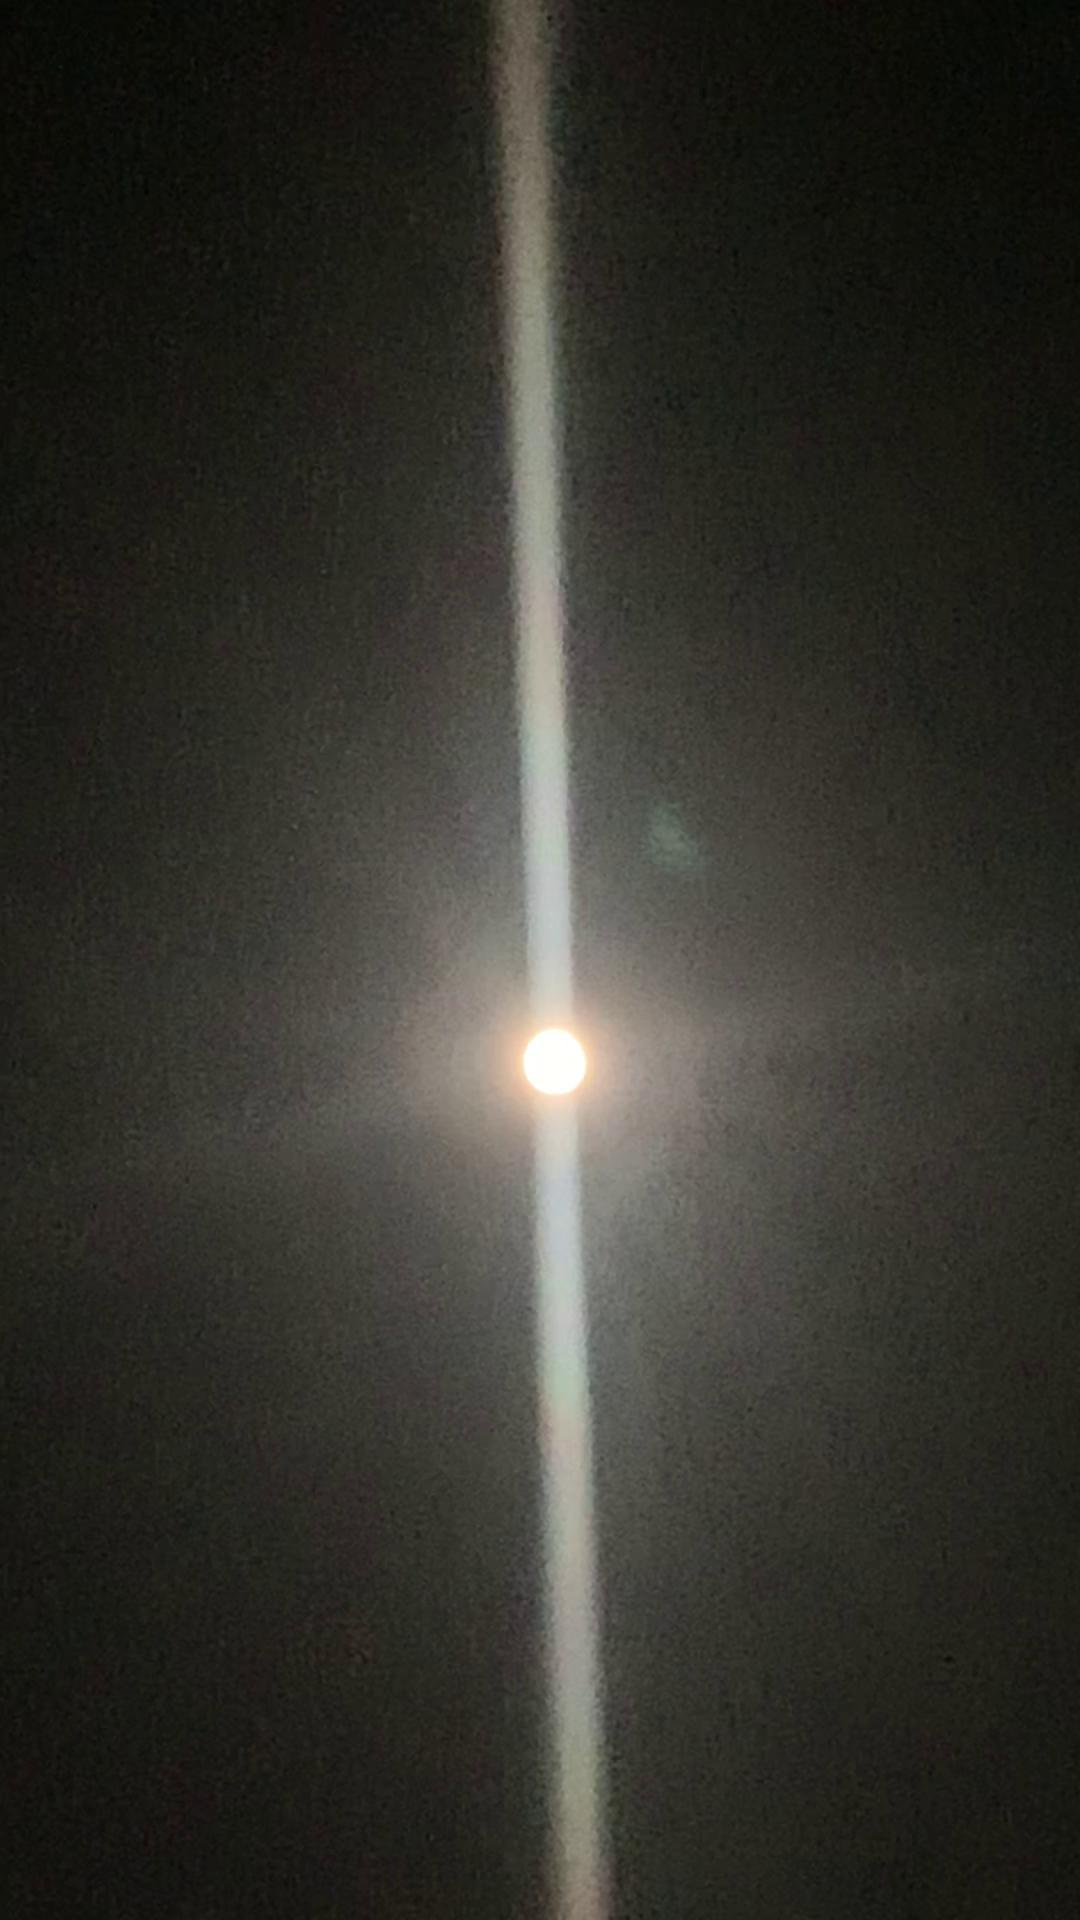moon: (492, 1010, 597, 1116)
